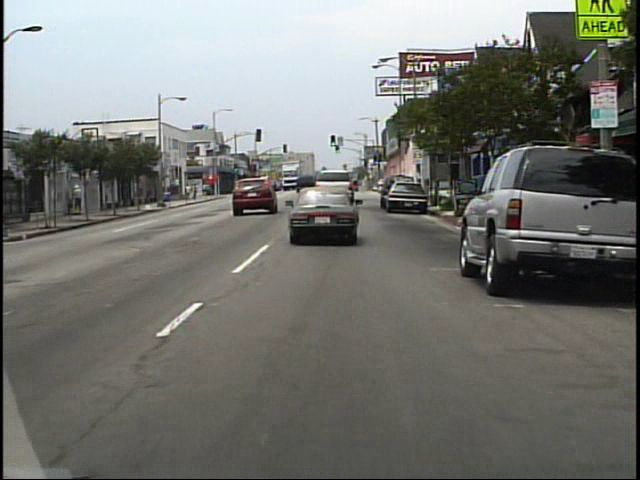person: (74, 184, 87, 214)
